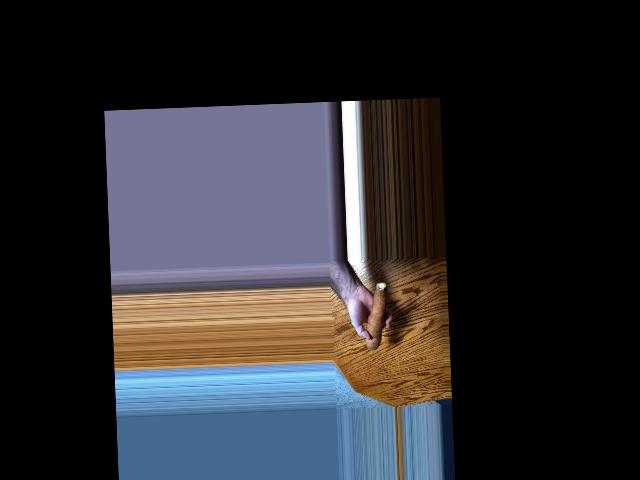sweet_potato: (366, 276, 390, 353)
